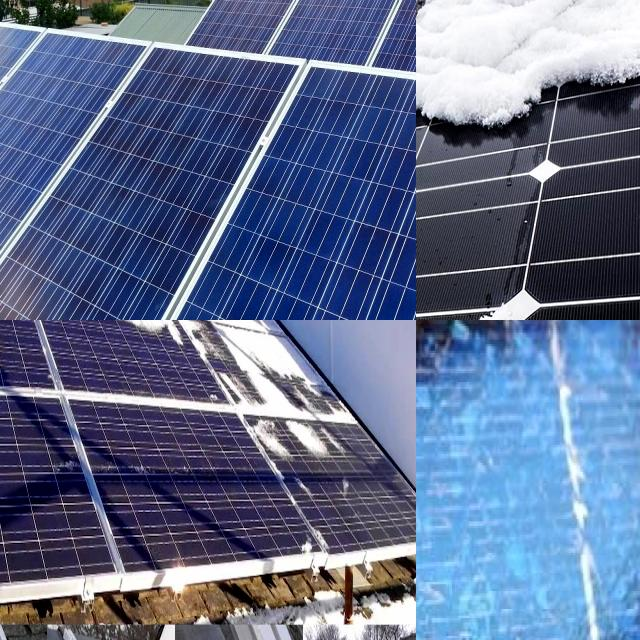crack: (0, 33, 337, 320), (112, 31, 416, 320), (0, 0, 172, 320), (248, 0, 415, 76), (209, 0, 317, 79)
panel: (427, 38, 582, 128), (233, 339, 316, 407), (66, 320, 170, 369), (255, 412, 338, 466), (578, 29, 640, 99), (416, 75, 477, 143), (416, 97, 486, 152), (416, 122, 466, 188), (0, 320, 54, 378), (188, 320, 271, 345), (294, 532, 342, 574), (0, 320, 18, 388), (0, 320, 52, 337)
shadow: (416, 320, 617, 444)
